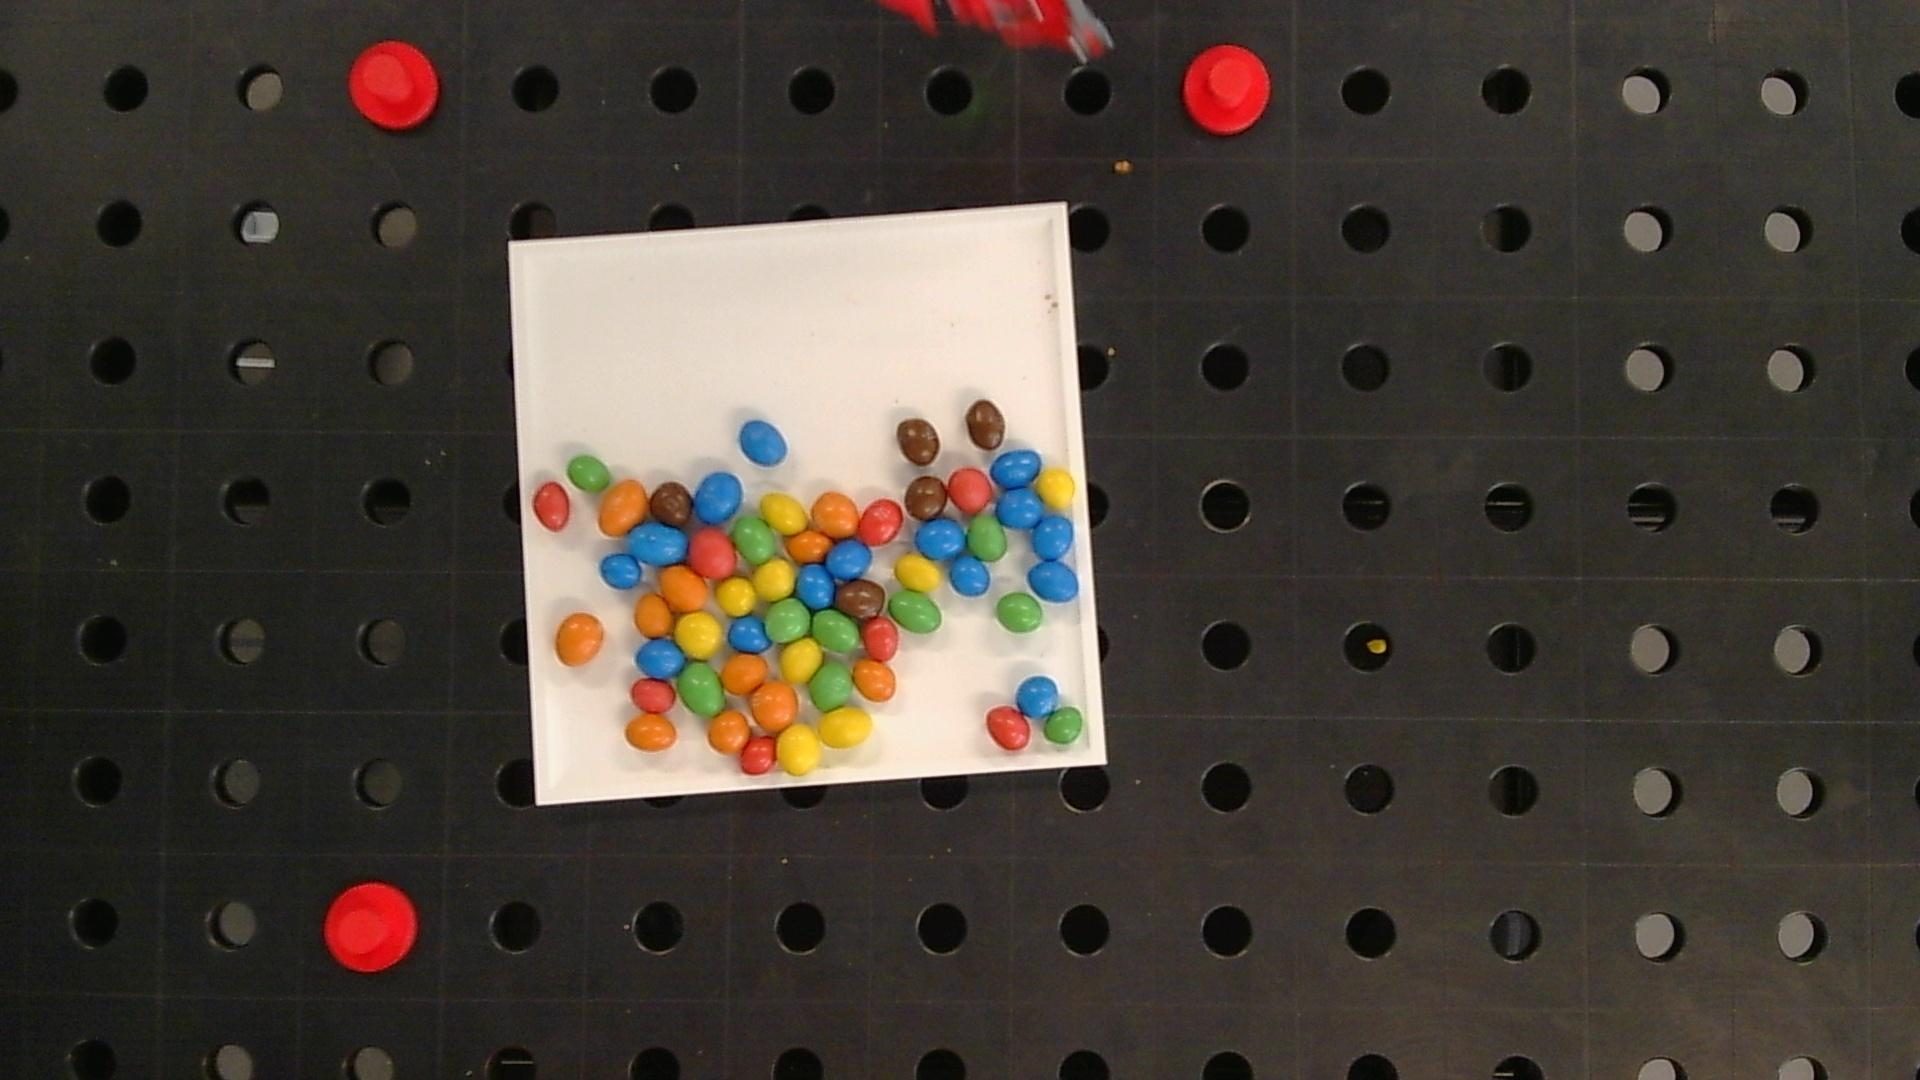blue: (694, 472, 742, 524), (629, 524, 688, 564), (740, 421, 787, 467), (915, 517, 965, 559), (1029, 560, 1079, 601), (1031, 514, 1073, 560), (990, 451, 1042, 488), (637, 638, 684, 676), (997, 489, 1042, 527), (1017, 676, 1059, 716), (827, 541, 870, 579), (949, 555, 990, 595), (798, 566, 835, 607), (600, 554, 642, 589), (728, 616, 769, 651)
brown: (649, 480, 694, 526), (897, 418, 940, 465), (965, 400, 1005, 450), (837, 580, 885, 618), (906, 476, 947, 520)
green: (679, 662, 724, 715), (889, 591, 943, 633), (733, 516, 777, 563), (810, 662, 853, 709), (766, 599, 811, 642), (812, 609, 858, 651), (996, 593, 1043, 633), (967, 516, 1007, 560), (1043, 707, 1085, 746), (567, 455, 612, 492)
orange: (599, 480, 649, 534), (555, 612, 604, 665), (750, 682, 798, 732), (812, 492, 860, 538), (659, 567, 708, 611), (708, 711, 750, 754), (853, 659, 897, 702), (625, 716, 676, 750), (723, 654, 766, 694), (636, 593, 671, 636), (786, 530, 832, 562)
red: (690, 529, 736, 578), (857, 498, 903, 545), (948, 468, 994, 512), (986, 705, 1031, 749), (533, 481, 570, 531), (862, 620, 899, 661), (632, 679, 675, 712), (740, 738, 777, 774)
yellow: (819, 707, 873, 748), (777, 725, 820, 774), (675, 613, 721, 657), (761, 493, 808, 533), (779, 640, 822, 683), (753, 559, 795, 599), (894, 555, 940, 591), (1036, 468, 1075, 509), (716, 578, 756, 616)
